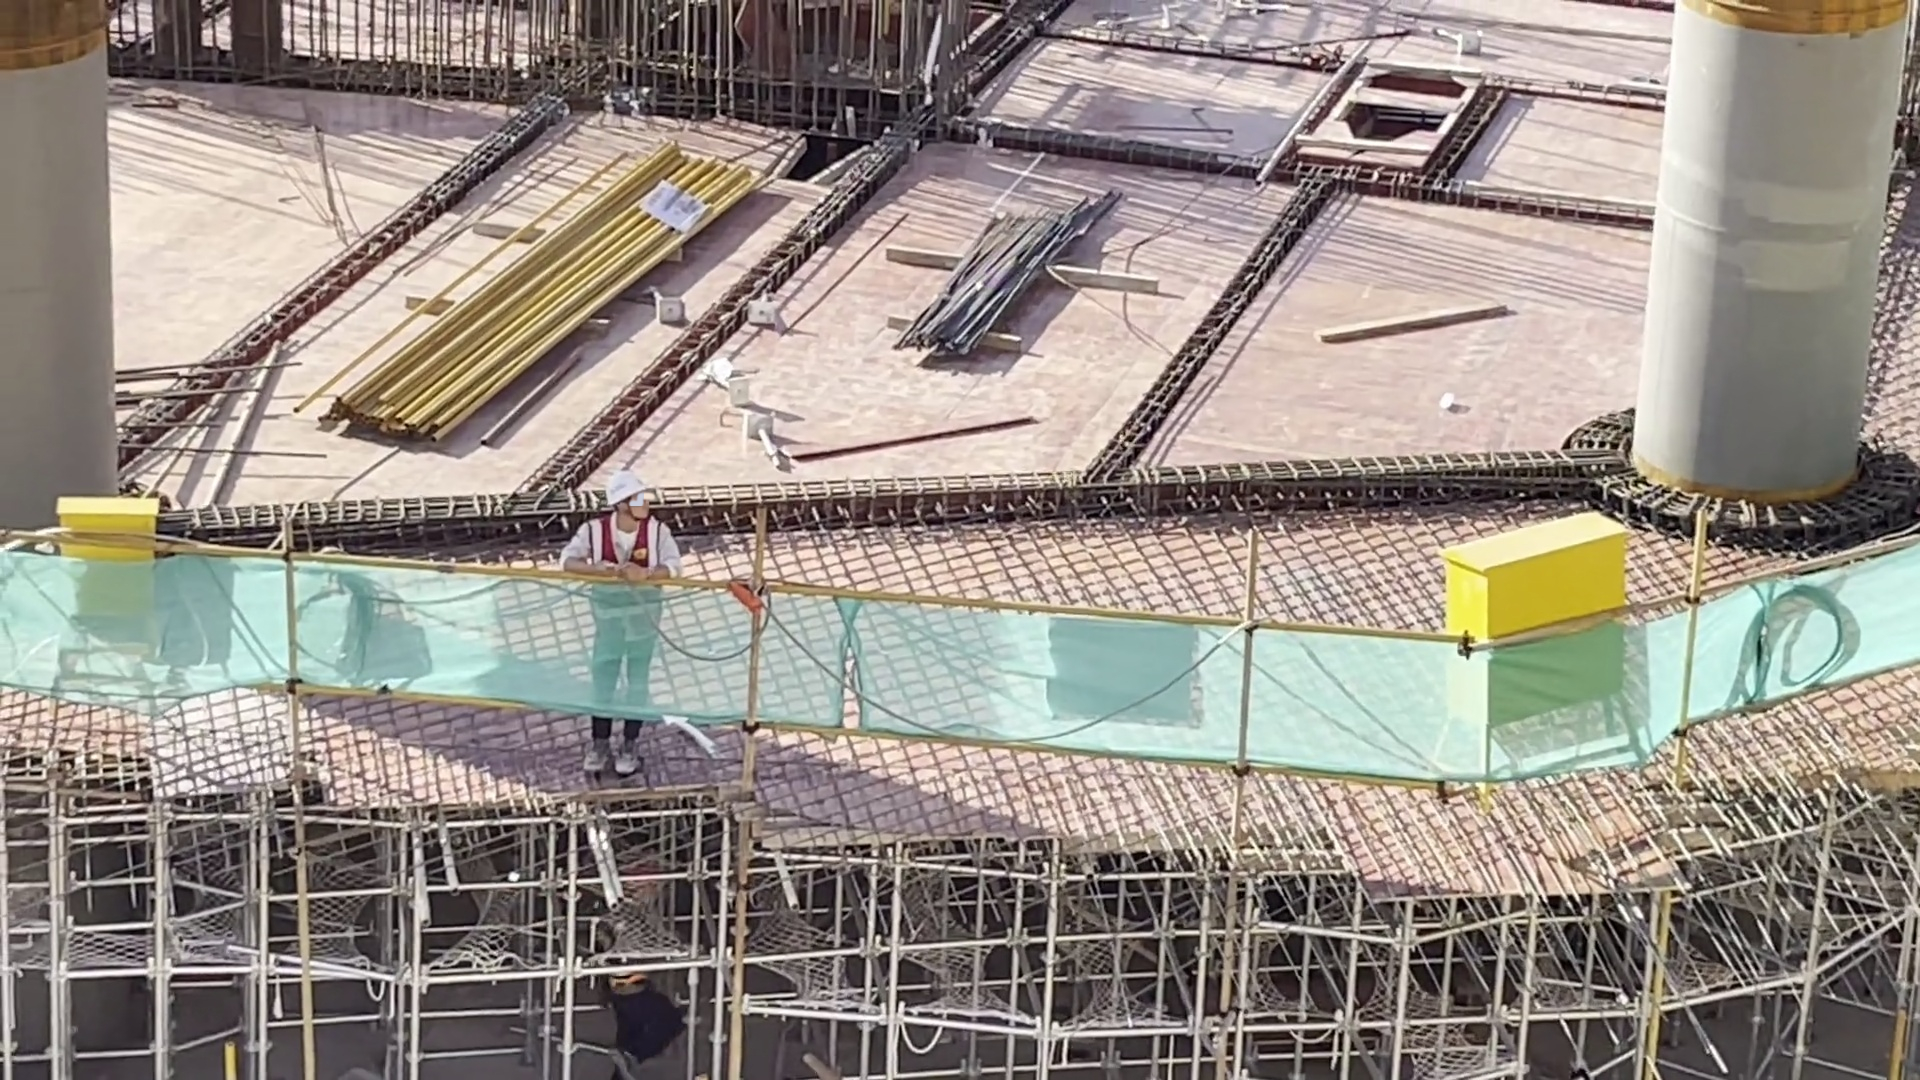ebox: (1464, 512, 1618, 719), (56, 462, 171, 616)
helmet: (608, 472, 649, 511), (626, 851, 659, 889)
person: (596, 453, 691, 738), (611, 855, 669, 1065)
rebar: (931, 198, 1101, 354)
vest: (594, 529, 663, 659), (606, 909, 659, 999)
